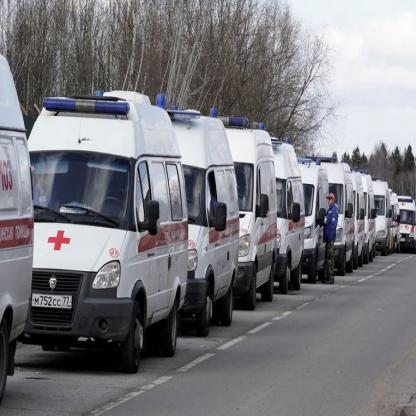Ambulance - v1 Ambulance last generate: (13, 85, 190, 363), (145, 96, 243, 320), (0, 28, 31, 415), (218, 114, 276, 298), (262, 134, 310, 288), (297, 159, 328, 268), (328, 152, 350, 268), (353, 165, 378, 262), (373, 178, 396, 246), (396, 198, 414, 240)
